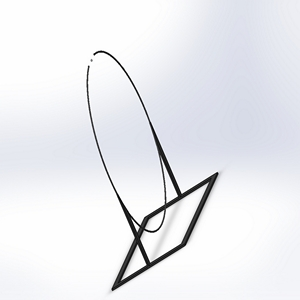circle: (83, 44, 219, 291)
